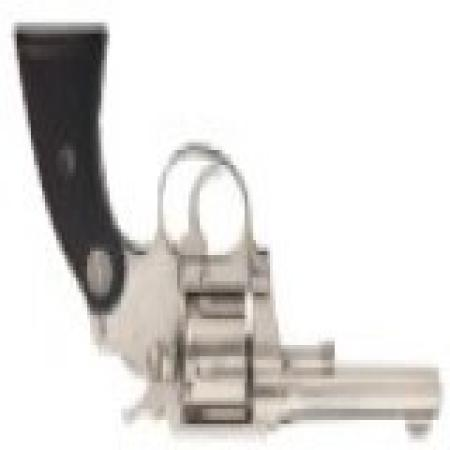Pistol: (20, 30, 444, 442)
